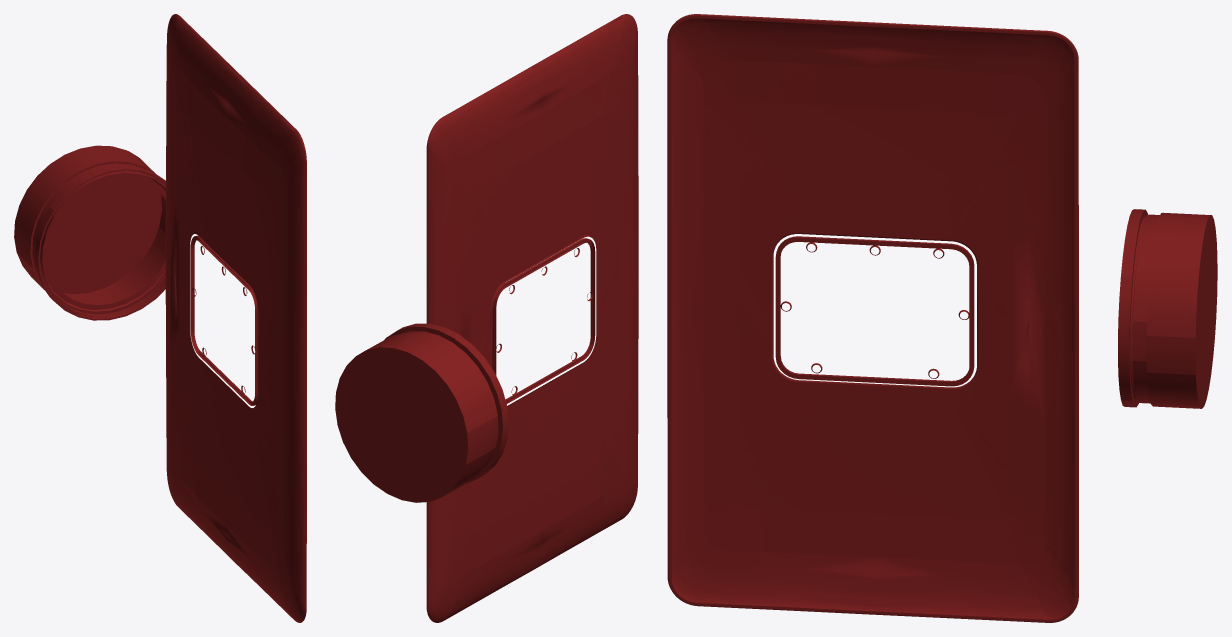
The model's file is head_8.obj.
3 renders of one model, left to right at view 1: azimuth 30°, elevation 25°; view 2: azimuth 150°, elevation 25°; view 3: azimuth 270°, elevation 25°, orthographic. The views are drawn at different scales.
Parts seen in each view (by area): view 1: head_8; view 2: head_8; view 3: head_8.
Part boxes in pixels (box(x1,y1,x2,y2)): head_8: box(14, 14, 306, 622); head_8: box(335, 14, 638, 622); head_8: box(667, 14, 1217, 622).
Bounding box in the file's own units: 0.0797 × 0.2552 × 0.2149.
